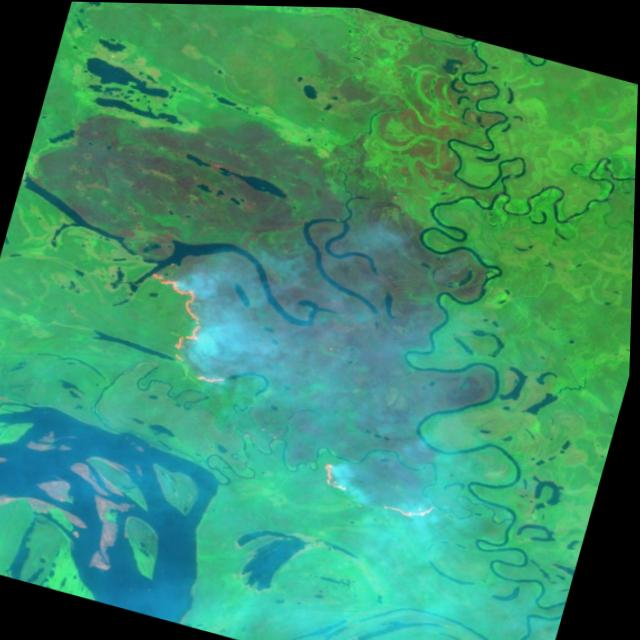fire: (121, 260, 260, 393), (300, 437, 452, 530)
